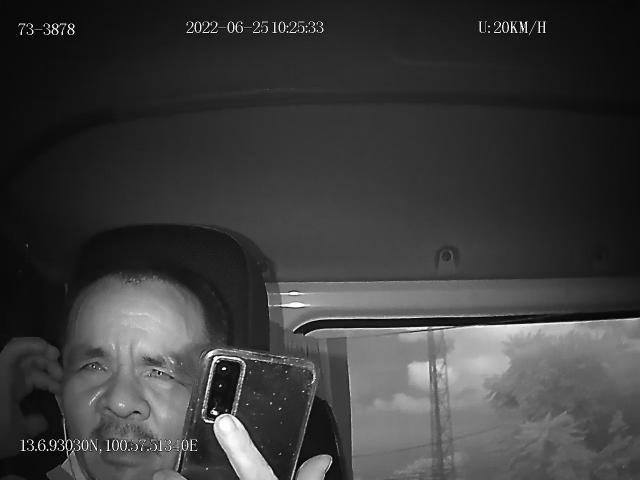PhoneUse: (178, 346, 318, 480)
SafeDriving: (72, 347, 115, 382), (136, 352, 180, 386)
